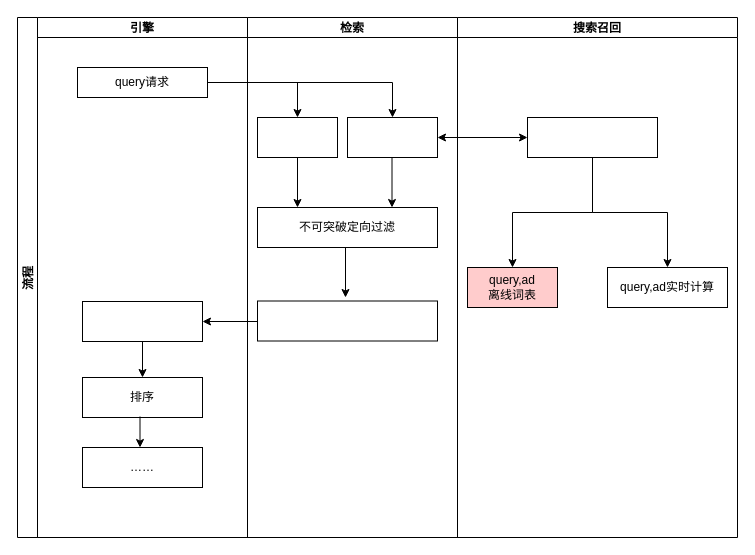
The diagram is 755 pixels wide and 555 high, and some of its shapes have lost their labels. The centre of each missing label's shape, as x and y in pixels:
"其他支路" belongs at (x=297, y=137).
"创意召回" belongs at (x=142, y=321).
"多路归并&过滤" belongs at (x=347, y=320).
"提词智能扩量服务" belongs at (x=592, y=137).
"泛化v1/v2/xxx" belongs at (x=392, y=137).
